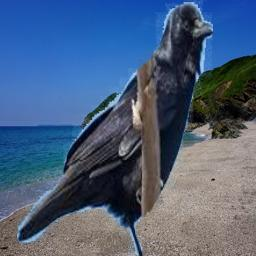Crow: (17, 0, 213, 256)
